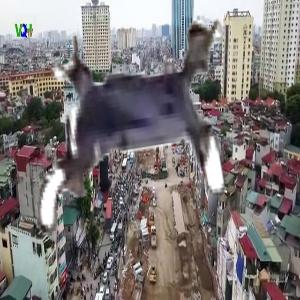drone: (11, 5, 253, 247)
